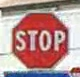stop: (10, 11, 69, 68)
